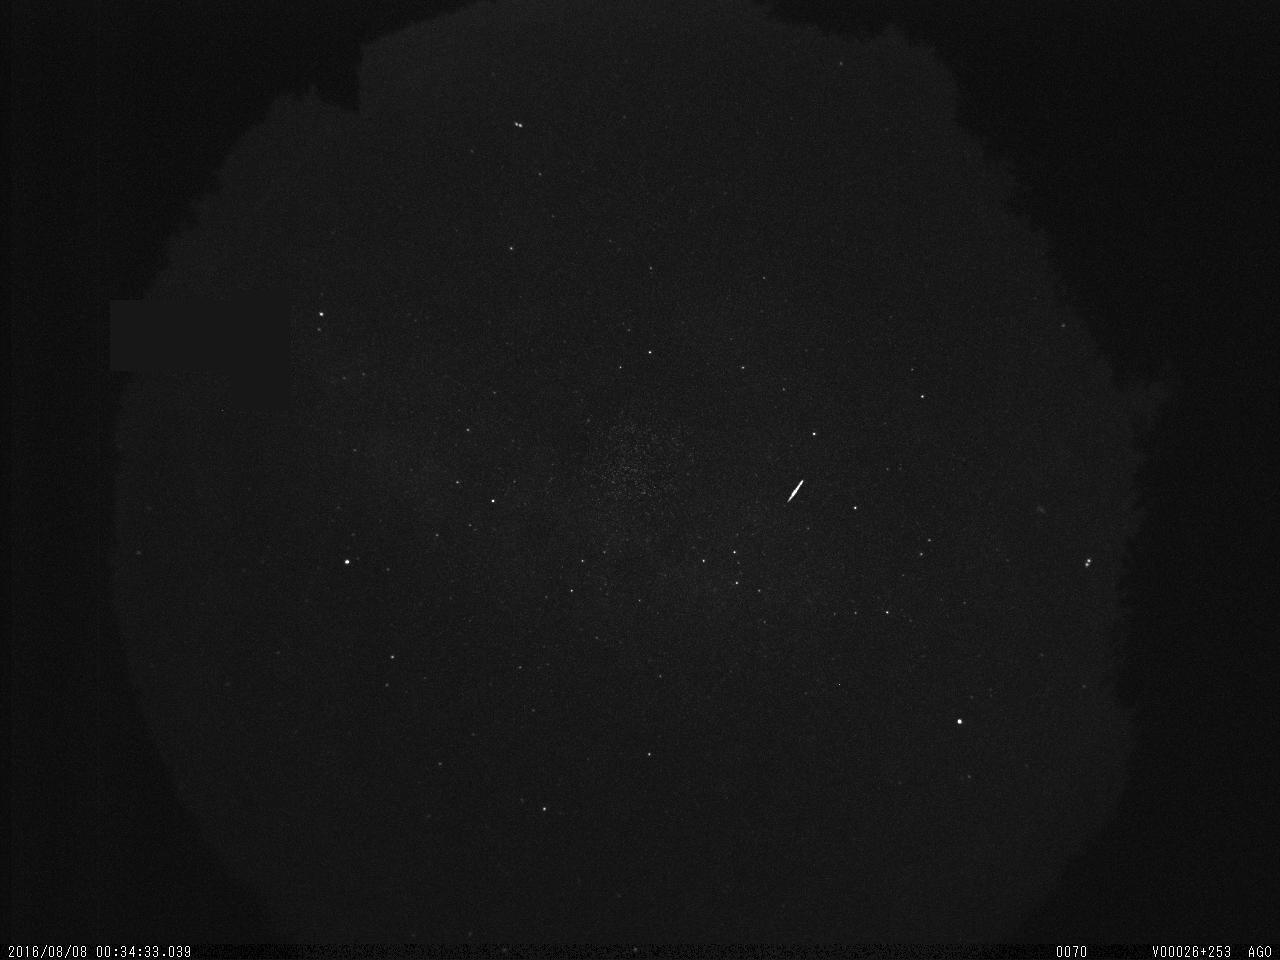Meteor: (785, 477, 806, 503)
